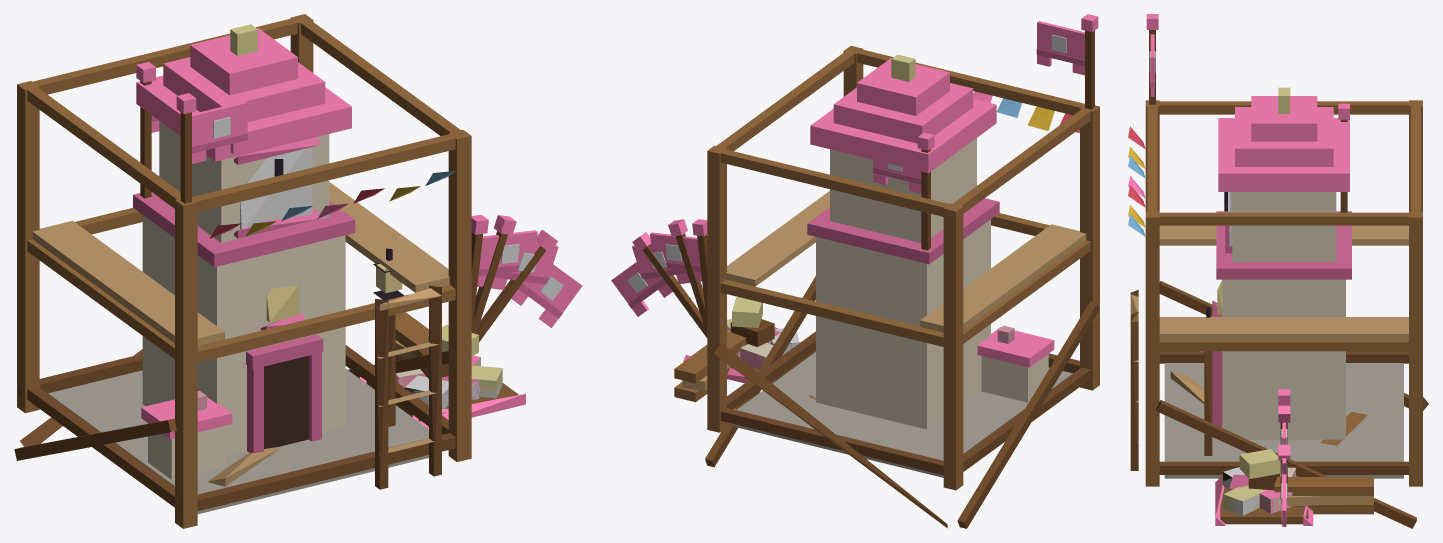
File: opossum-research.glb
3 views of the same model, side by side, from view 1: azimuth 30°, elevation 25°; view 2: azimuth 150°, elevation 25°; view 3: azimuth 270°, elevation 25° (orthographic). The views are drawn at different scales.
Parts seen in each view (by area): view 1: scaffold-mesh, built-mesh, dismantle-25-mesh, dismantle-75-mesh, dismantle-50-mesh, scaffold-banner, dismantle-25-banner, dismantle-75-banner, scaffold-flag-pole, dismantle-25-flag-pole, dismantle-50-banner, dismantle-50-flag-pole (+2 smaller); view 2: scaffold-mesh, built-mesh, dismantle-25-mesh, dismantle-75-mesh, scaffold-banner, dismantle-50-mesh, dismantle-25-banner, dismantle-75-banner, dismantle-50-banner, dismantle-25-flag-pole, scaffold-flag-pole, dismantle-50-flag-pole (+3 smaller); view 3: scaffold-mesh, built-mesh, dismantle-25-mesh, dismantle-75-mesh, dismantle-50-mesh, scaffold-flag-pole, flag-pole, scaffold-banner.
Boxes of the visible parts, left/top/right/bottom form: scaffold-mesh: left=14, top=14, right=471, bottom=528; built-mesh: left=48, top=24, right=428, bottom=514; dismantle-25-mesh: left=48, top=324, right=506, bottom=494; dismantle-75-mesh: left=133, top=184, right=525, bottom=479; dismantle-50-mesh: left=161, top=355, right=525, bottom=486; scaffold-banner: left=192, top=101, right=247, bottom=163; dismantle-25-banner: left=511, top=259, right=582, bottom=327; dismantle-75-banner: left=477, top=230, right=537, bottom=286; scaffold-flag-pole: left=176, top=93, right=196, bottom=203; dismantle-25-flag-pole: left=476, top=229, right=557, bottom=342; dismantle-50-banner: left=491, top=240, right=558, bottom=294; dismantle-50-flag-pole: left=472, top=215, right=516, bottom=333; scaffold-mesh: left=674, top=45, right=1099, bottom=528; built-mesh: left=734, top=54, right=1072, bottom=477; dismantle-25-mesh: left=727, top=297, right=1072, bottom=460; dismantle-75-mesh: left=683, top=198, right=1053, bottom=383; scaffold-banner: left=1036, top=21, right=1084, bottom=75; dismantle-50-mesh: left=727, top=319, right=1048, bottom=402; dismantle-25-banner: left=611, top=257, right=672, bottom=316; dismantle-75-banner: left=650, top=232, right=702, bottom=281; dismantle-50-banner: left=632, top=240, right=690, bottom=288; dismantle-25-flag-pole: left=632, top=232, right=707, bottom=337; scaffold-flag-pole: left=1081, top=14, right=1098, bottom=109; dismantle-50-flag-pole: left=668, top=219, right=707, bottom=328; scaffold-mesh: left=1128, top=100, right=1428, bottom=528; built-mesh: left=1164, top=87, right=1403, bottom=478; dismantle-25-mesh: left=1164, top=363, right=1403, bottom=525; dismantle-75-mesh: left=1204, top=200, right=1351, bottom=525; dismantle-50-mesh: left=1170, top=371, right=1311, bottom=524; scaffold-flag-pole: left=1146, top=14, right=1158, bottom=104; flag-pole: left=1338, top=103, right=1349, bottom=212; scaffold-banner: left=1149, top=34, right=1155, bottom=96.
Size of the model in its own units: 2.35 by 2.19 by 1.51.
